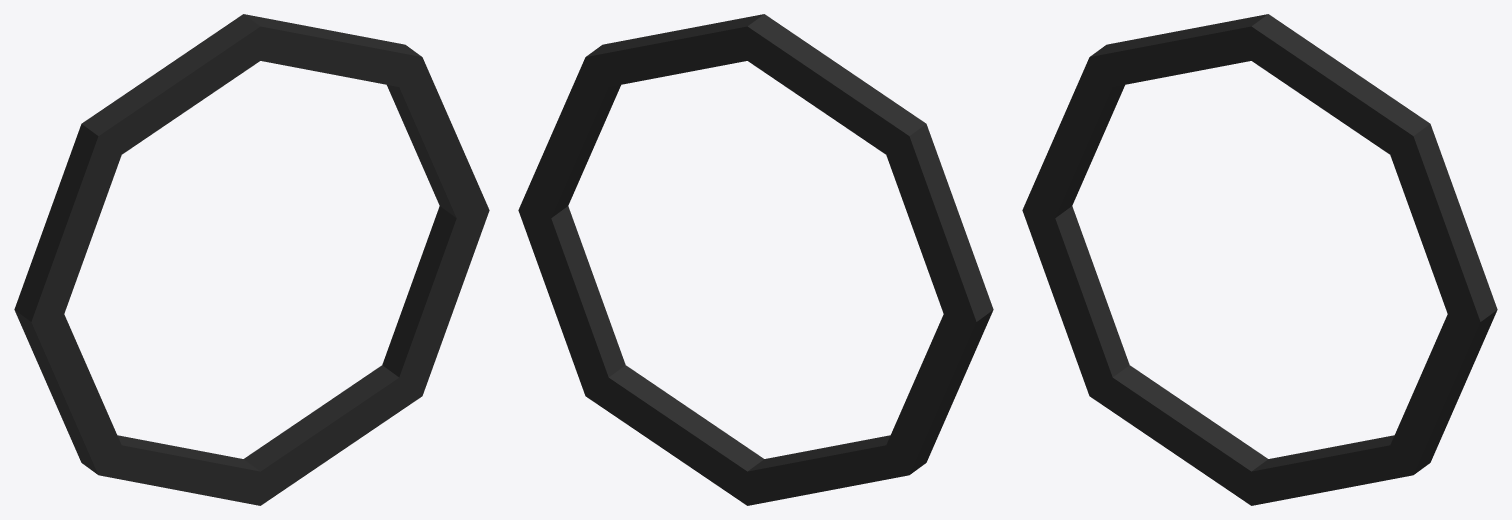
Rendered from GrenadeRing.fbx.
3 renders of one model, left to right at view 1: azimuth 30°, elevation 25°; view 2: azimuth 150°, elevation 25°; view 3: azimuth 330°, elevation 25°, orthographic.
Visible parts, largest first — view 1: GrenadeRing; view 2: GrenadeRing; view 3: GrenadeRing.
Boxes of the visible parts, x1,y1,x2,y2 form: GrenadeRing: (14,14,489,505); GrenadeRing: (518,14,993,505); GrenadeRing: (1022,14,1497,505).
Bounding box in the file's own units: 0.0281 × 0.0281 × 0.00181.
